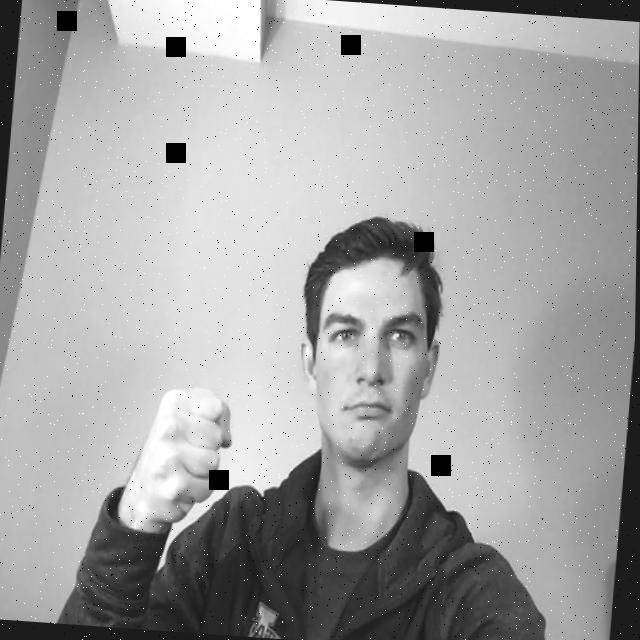Rock: (118, 381, 240, 536)
